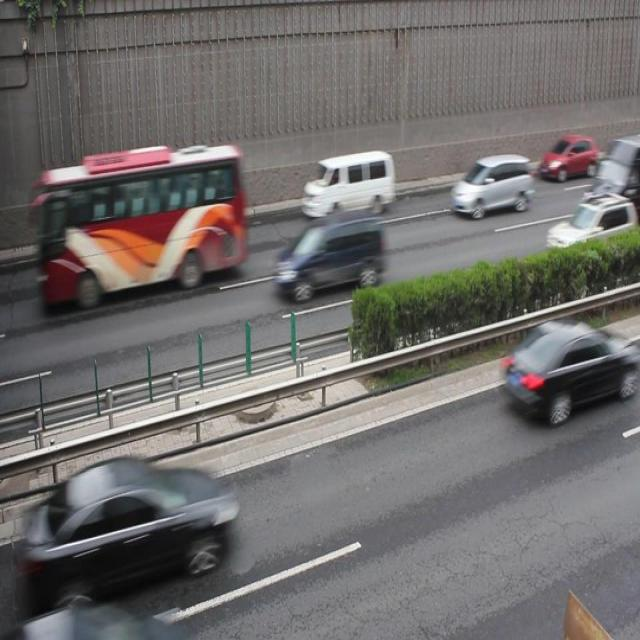car: (29, 455, 235, 601), (501, 318, 628, 425), (544, 194, 640, 264), (580, 135, 640, 211), (537, 132, 599, 182)
truck: (272, 209, 382, 299), (302, 151, 394, 218), (448, 154, 531, 218)
van: (42, 145, 242, 309)
